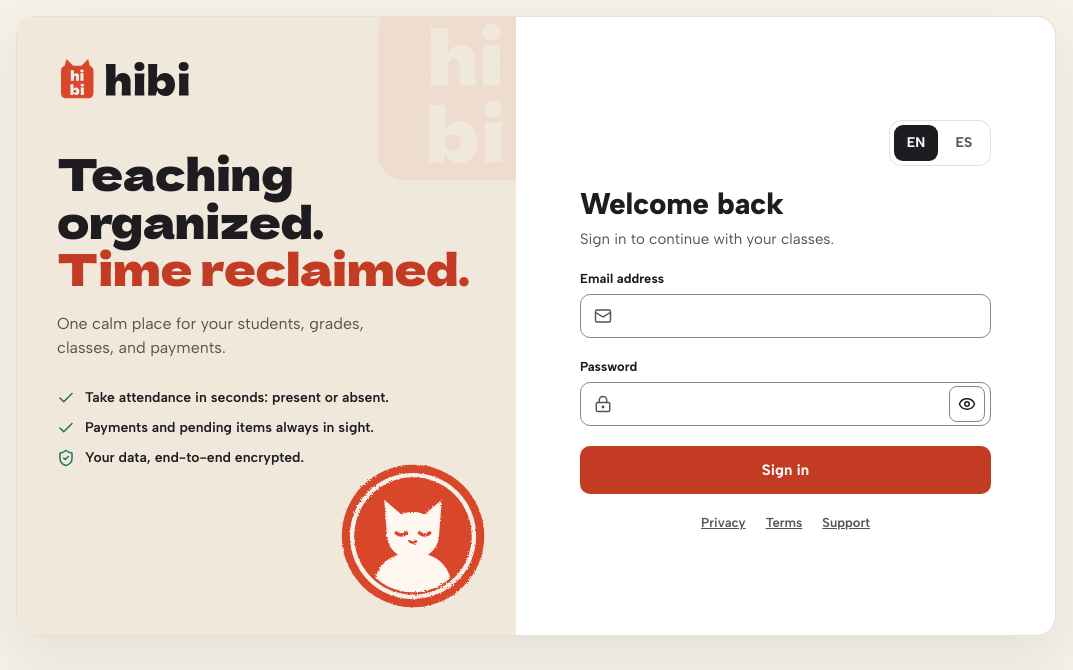
AuthScreen › normalizes credentials and submits sign in
This screenshot has width=1073, height=670.
Type "  Teacher@Example.COM " into the field labelled "Email address" at (786, 316), box [580, 294, 991, 338]
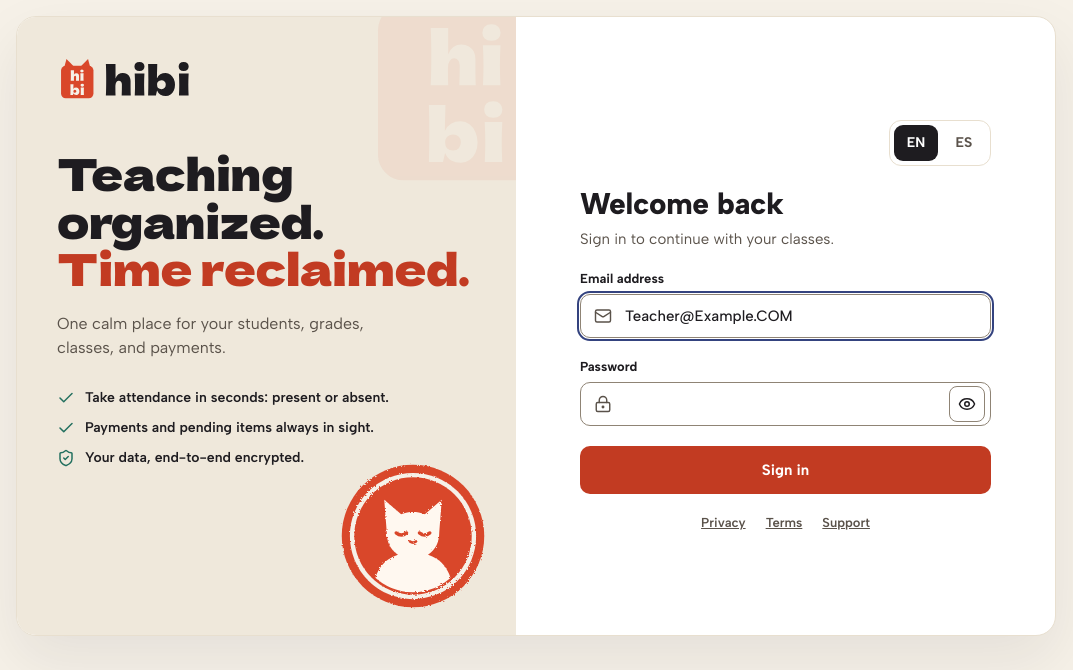
Type "secret-value" into the password field labelled "Password" at (786, 404), box [580, 382, 991, 426]
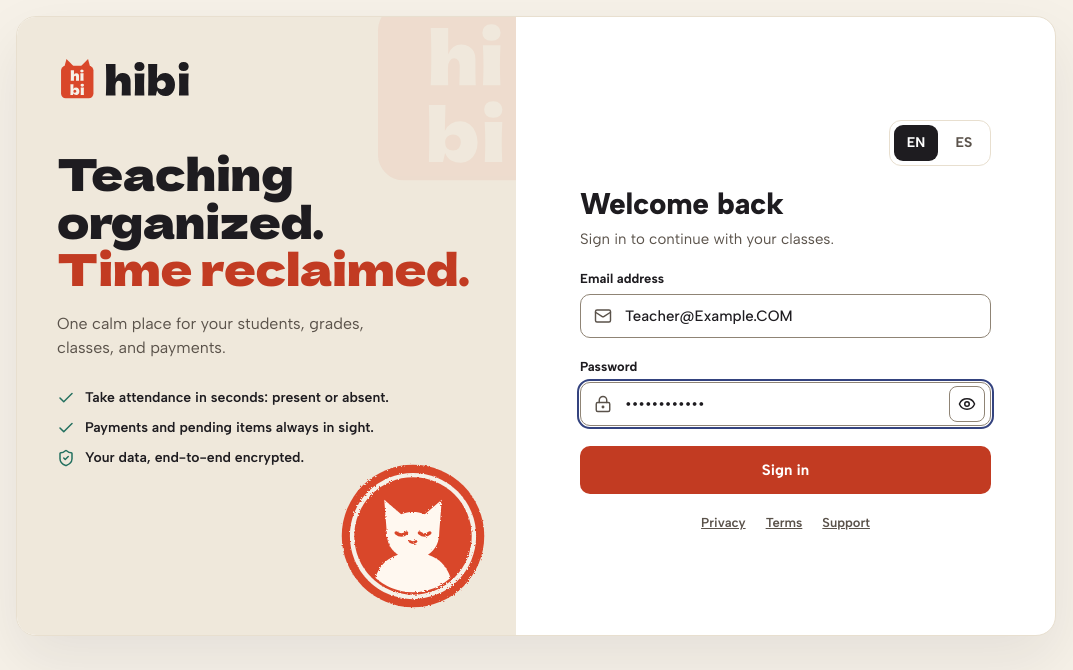
Click the button "Sign in" at (786, 470), box [580, 446, 991, 494]
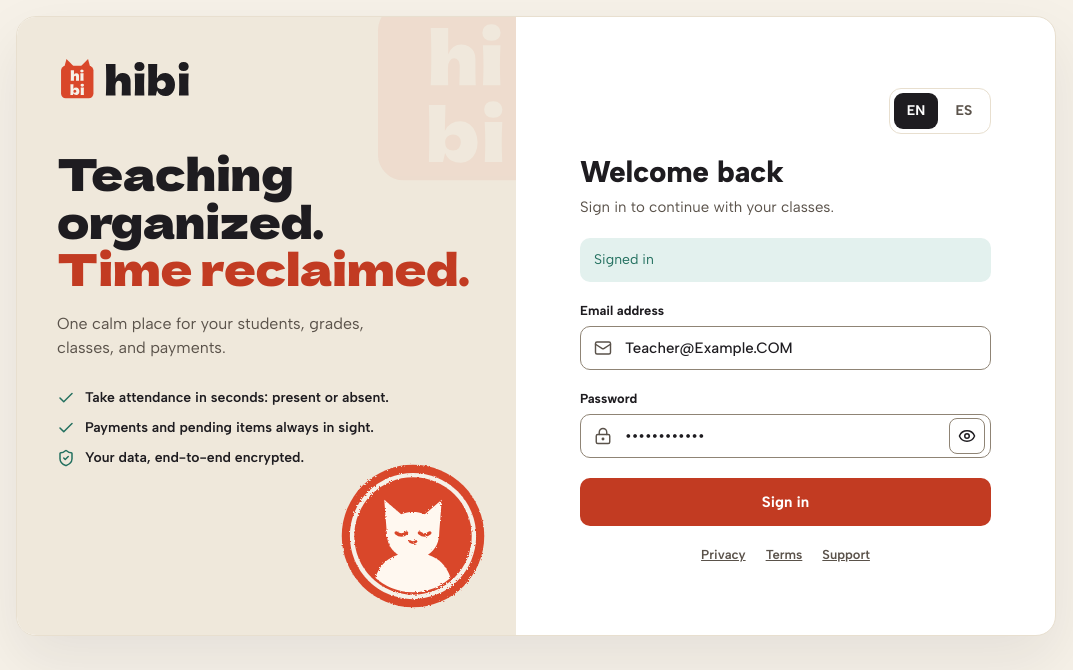
Now the message reads "Signed in", box [594, 251, 654, 268]
